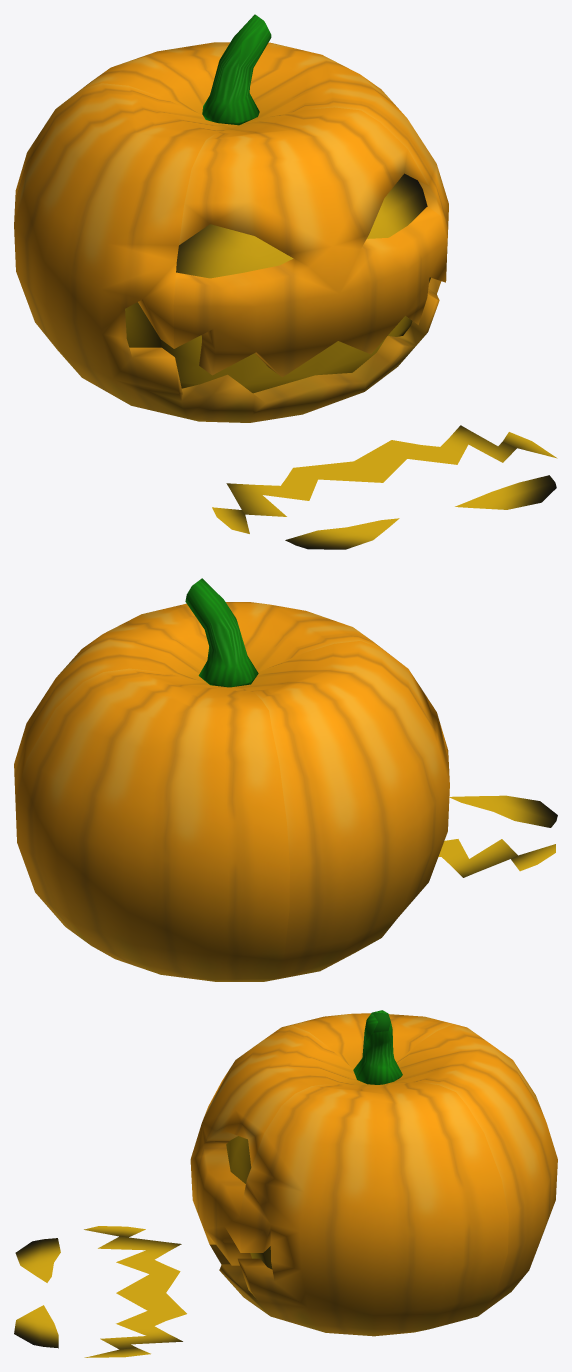
The model's file is jackolantern02-L.fbx.
The picture shows the model from 3 angles, top to bottom: view 1: azimuth 30°, elevation 25°; view 2: azimuth 150°, elevation 25°; view 3: azimuth 270°, elevation 25°; orthographic projection. The views are drawn at different scales.
Parts seen in each view (by area): view 1: Cube, Cube.001; view 2: Cube, Cube.001; view 3: Cube, Cube.001.
Boxes of the visible parts, left/top/right/bottom form: Cube: left=14, top=14, right=448, bottom=422; Cube.001: left=125, top=173, right=557, bottom=549; Cube: left=14, top=578, right=449, bottom=981; Cube.001: left=438, top=795, right=557, bottom=877; Cube: left=190, top=1010, right=557, bottom=1336; Cube.001: left=14, top=1136, right=272, bottom=1357.
Size of the model in its own units: 1.41 by 1.28 by 2.08.
